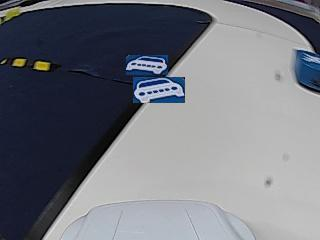prop: (294, 49, 320, 92)
